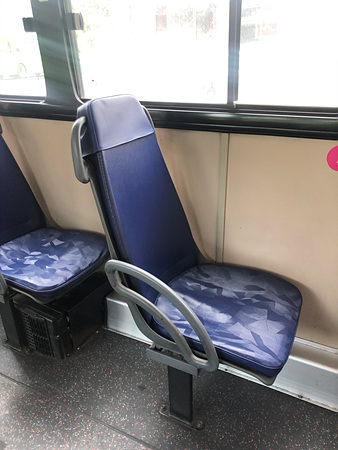seat: (76, 92, 304, 386)
